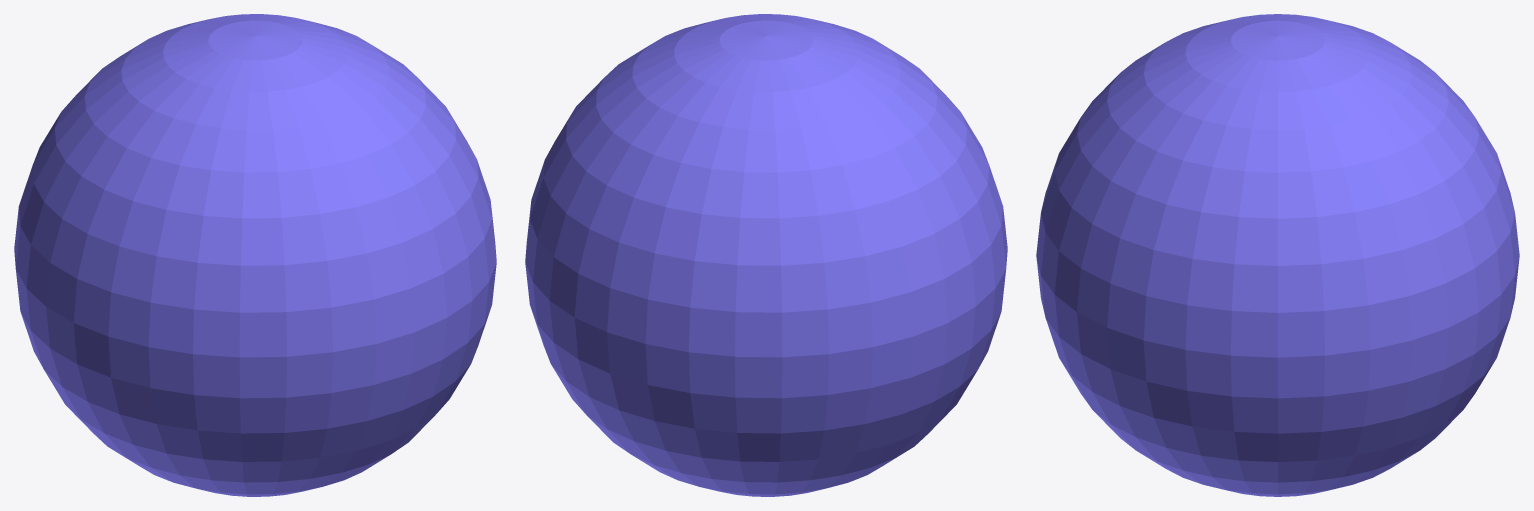
File: alvaro_incube.glb
The picture shows the model from 3 angles, left to right: view 1: azimuth 30°, elevation 25°; view 2: azimuth 150°, elevation 25°; view 3: azimuth 270°, elevation 25°; orthographic projection.
Visible parts, largest first — view 1: Sphere; view 2: Sphere; view 3: Sphere.
Part boxes in pixels (x1,y1,x2,y2): Sphere: [14, 14, 496, 496]; Sphere: [525, 14, 1007, 496]; Sphere: [1036, 14, 1519, 496].
Bounding box in the file's own units: 2 × 2 × 2.
